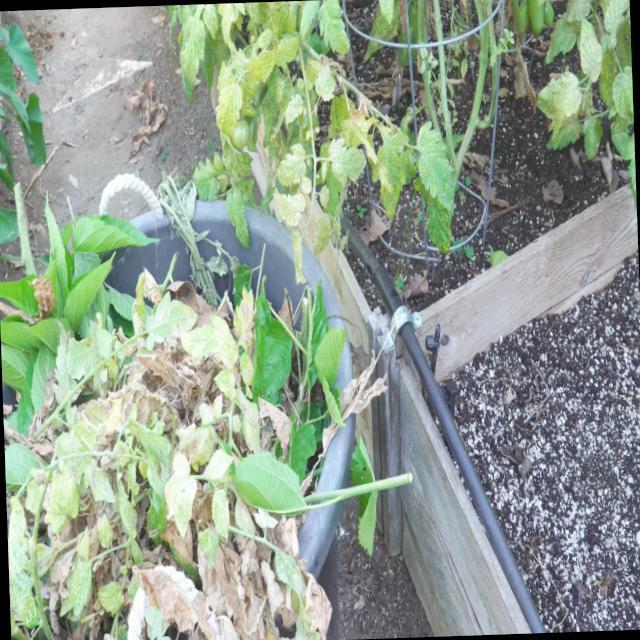Tomato spider mites leaf: (414, 120, 456, 213), (370, 130, 412, 223), (420, 178, 452, 255), (534, 68, 582, 119), (56, 560, 95, 618), (126, 416, 172, 464), (327, 135, 368, 185), (178, 15, 206, 87), (213, 71, 243, 136), (316, 0, 349, 56), (577, 15, 603, 84), (542, 15, 576, 66), (209, 311, 239, 368), (192, 150, 224, 203), (172, 474, 198, 538), (274, 140, 308, 188), (599, 0, 630, 51), (226, 186, 250, 250), (610, 64, 634, 125), (260, 81, 281, 148), (245, 43, 277, 84), (272, 190, 306, 228), (210, 488, 230, 544), (289, 228, 308, 286), (96, 580, 124, 618), (298, 0, 321, 41), (313, 63, 337, 102), (274, 34, 300, 69), (212, 368, 237, 402), (283, 92, 304, 130), (559, 0, 595, 21), (96, 509, 114, 550), (202, 3, 218, 40), (245, 2, 271, 24), (253, 29, 272, 49)
